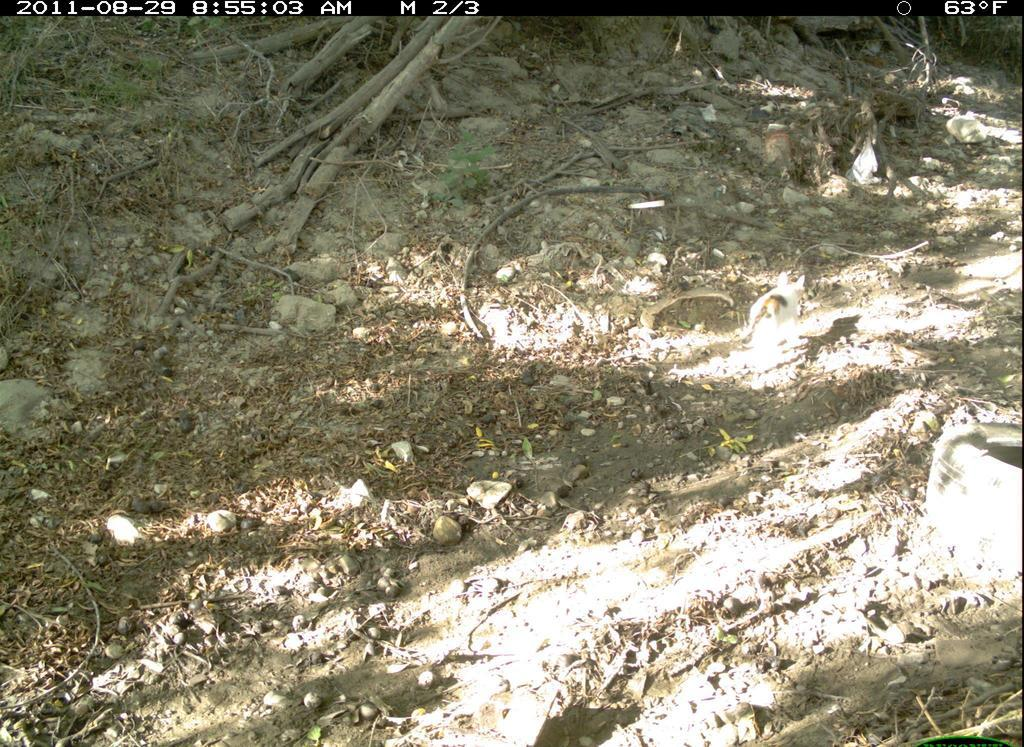cat: (689, 244, 831, 370)
